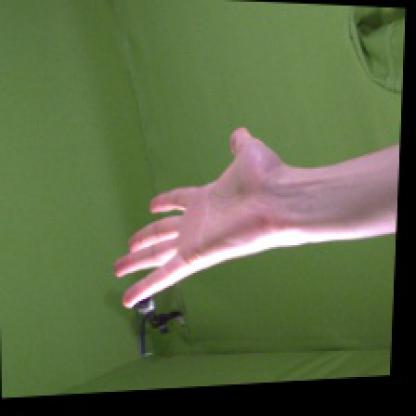Hand: (112, 125, 294, 309)
